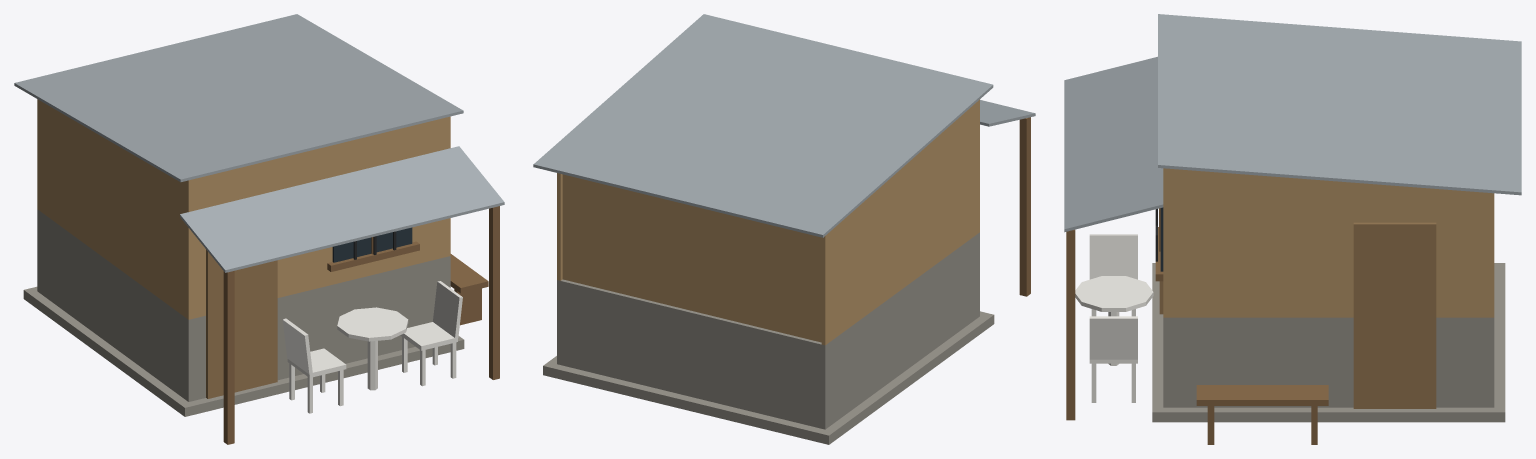
File: BAY_I_SariSari_L.glb
3 views of the same model, side by side, from view 1: azimuth 30°, elevation 25°; view 2: azimuth 150°, elevation 25°; view 3: azimuth 270°, elevation 25° (orthographic). The views are drawn at different scales.
Parts seen in each view (by area): view 1: BAY_I_SariSari_L; view 2: BAY_I_SariSari_L; view 3: BAY_I_SariSari_L.
Part boxes in pixels (<box>): BAY_I_SariSari_L: <box>14,14,504,444</box>; BAY_I_SariSari_L: <box>533,14,1035,444</box>; BAY_I_SariSari_L: <box>1064,14,1521,444</box>.
Size of the model in its own units: 3.73 by 2.58 by 4.15.
Materials: 1 (1 with a texture image).
